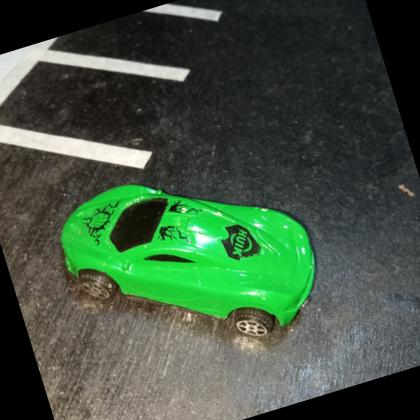Car: (45, 135, 336, 385)
